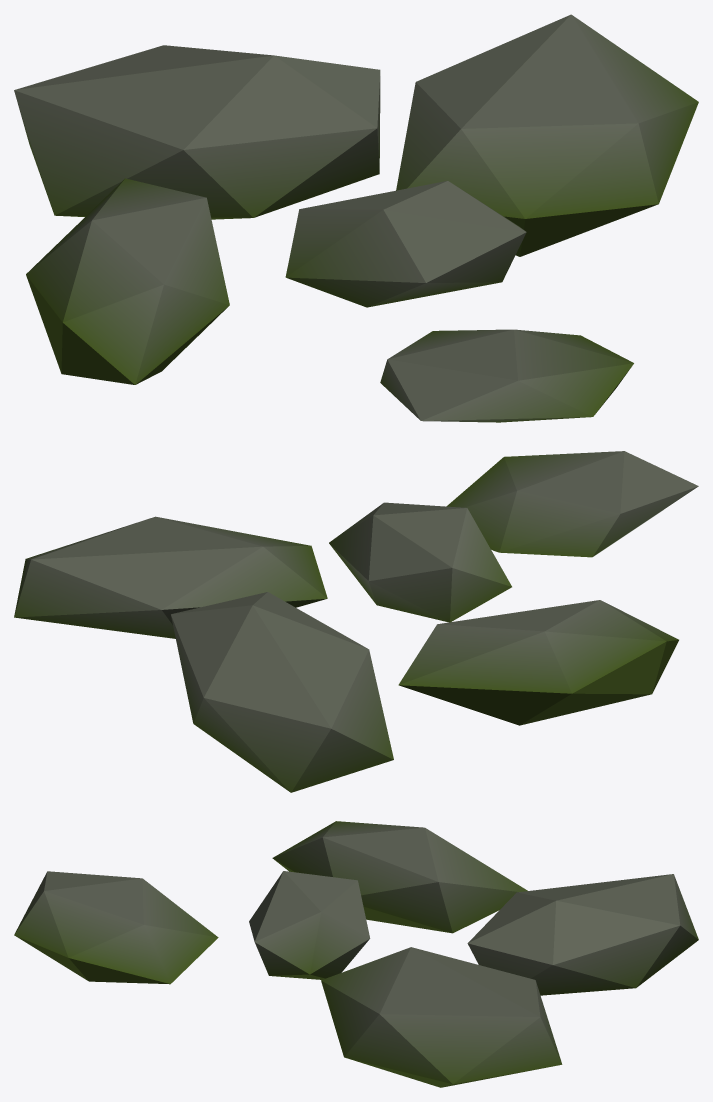
The model's file is Rock_1.glb.
3 renders of one model, top to bottom at view 1: azimuth 30°, elevation 25°; view 2: azimuth 150°, elevation 25°; view 3: azimuth 270°, elevation 25°, orthographic. The views are drawn at different scales.
Visible parts, largest first — view 1: Rock_1; view 2: Rock_1; view 3: Rock_1.
Part boxes in pixels (left/top/right/bottom): Rock_1: left=14, top=14, right=698, bottom=422; Rock_1: left=14, top=451, right=698, bottom=792; Rock_1: left=14, top=821, right=698, bottom=1087.
Size of the model in its own units: 1.6 by 0.3462 by 1.83.
